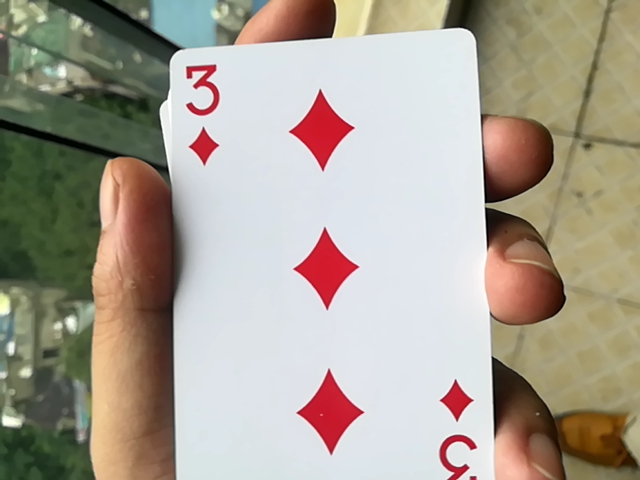fk 3: (132, 27, 506, 474)
